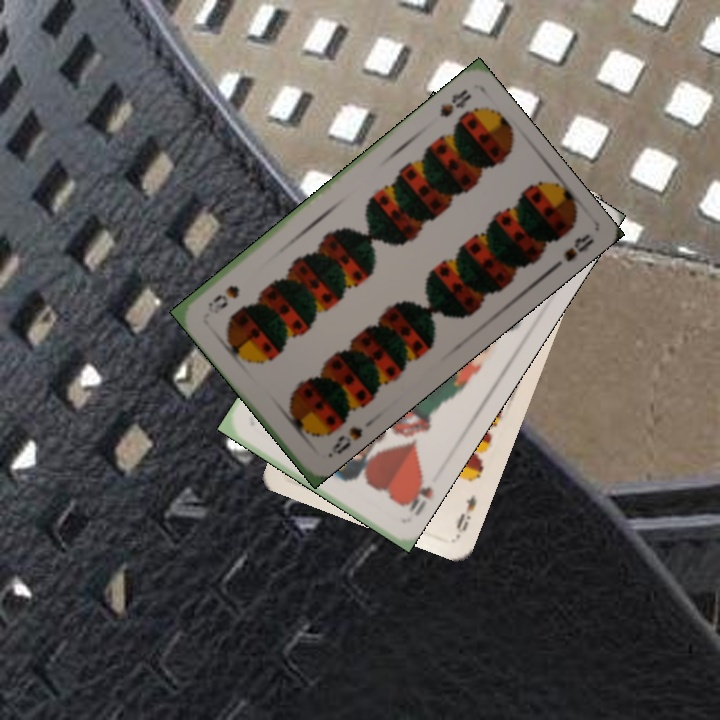E9: (452, 490, 479, 538)
HO: (397, 470, 436, 519)
S8: (323, 422, 366, 460), (435, 85, 475, 120)
